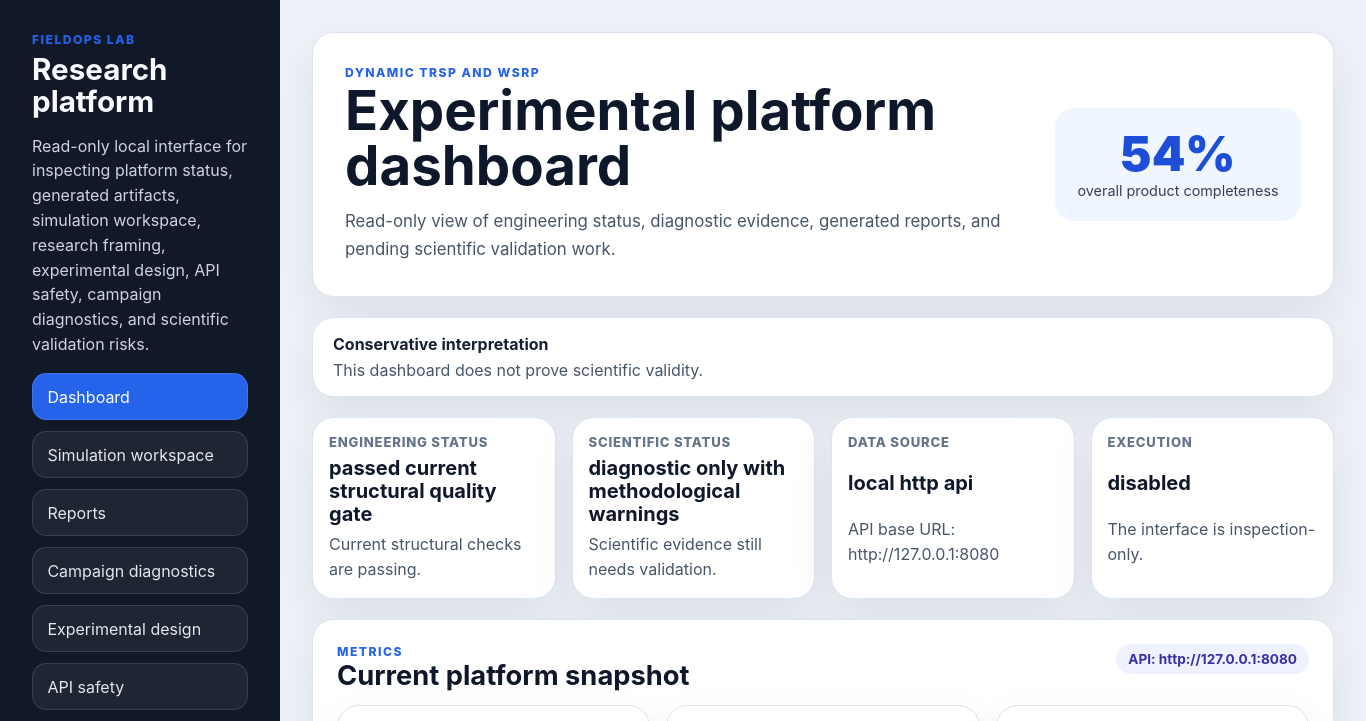
Campaign diagnostics page › shows campaign diagnostics without enabling execution
Expected: the heading "Experimental platform dashboard" is shown, [345, 83, 1023, 192]
What coordinates should you click on to do the following:
click the button "Campaign diagnostics"
I would click on:
 (140, 571)
Its box is [32, 547, 248, 594].
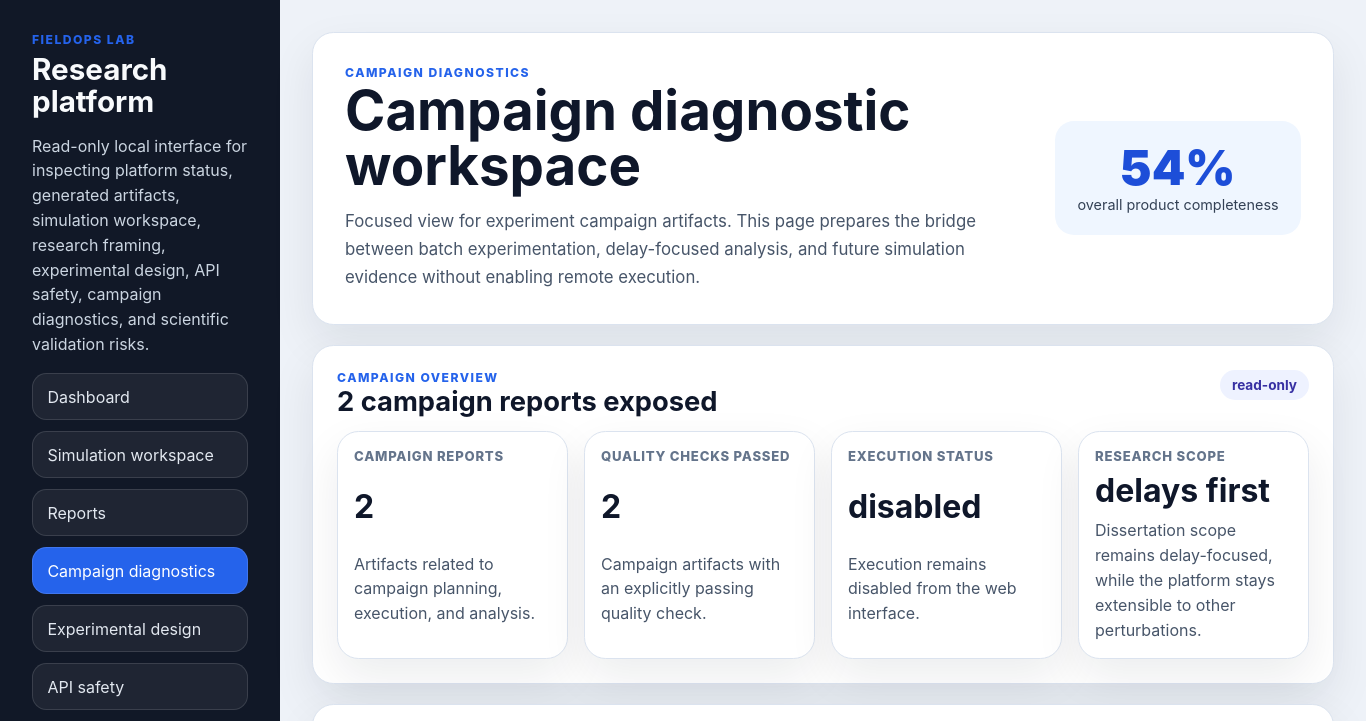
Expected: the heading "Campaign diagnostic workspace" is shown, [345, 77, 910, 198]
Expected: the heading "2 campaign reports exposed" is shown, [337, 388, 718, 415]
Expected: the text "Execution remains disabled from the web interface." is shown, [848, 552, 1045, 642]
